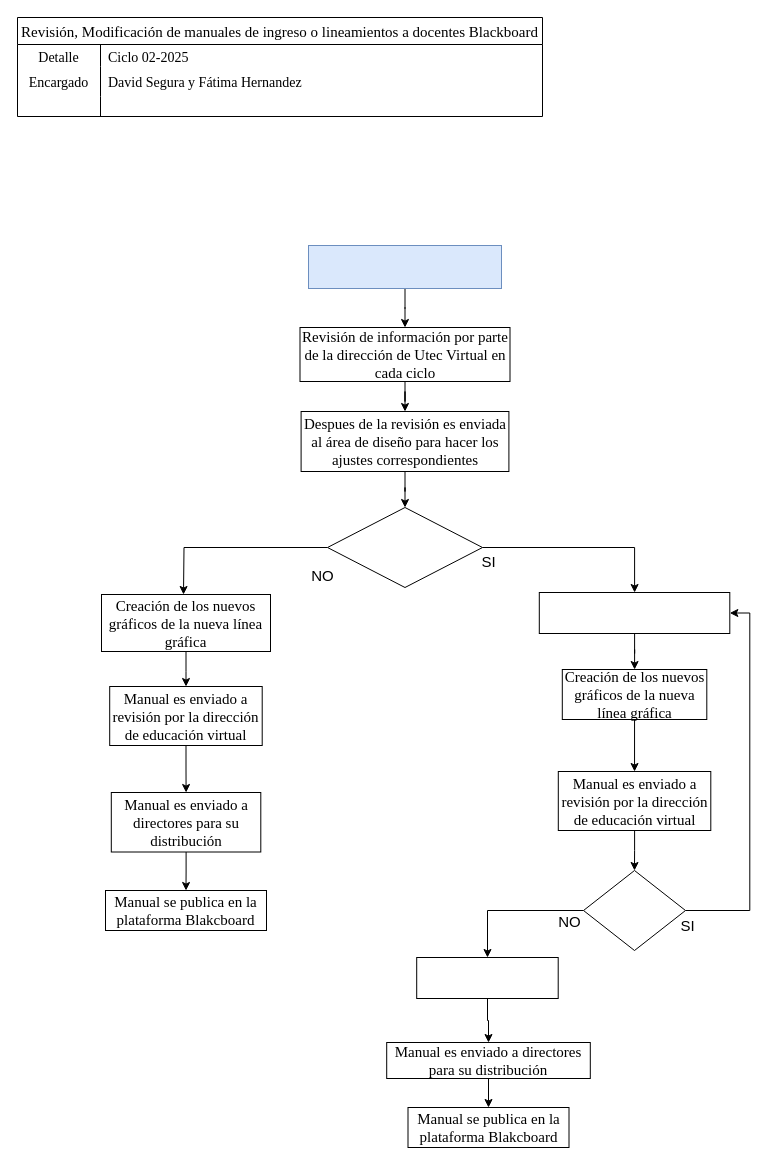
The diagram is 776 pixels wide and 1165 high, and some of its shapes have lost their labels. The shapes that lost their labels are listed below. From the top down, each one's box as (x1, y1, x2, y2) in pixels, then its label:
(308, 244, 502, 288): Revisión de manual de Blackboard
(326, 506, 482, 588): ¿información desactualizada?
(538, 592, 730, 634): Agregar o quitar información
(582, 870, 686, 950): ¿Correción?
(416, 956, 558, 998): manual ya listo para su publicación
